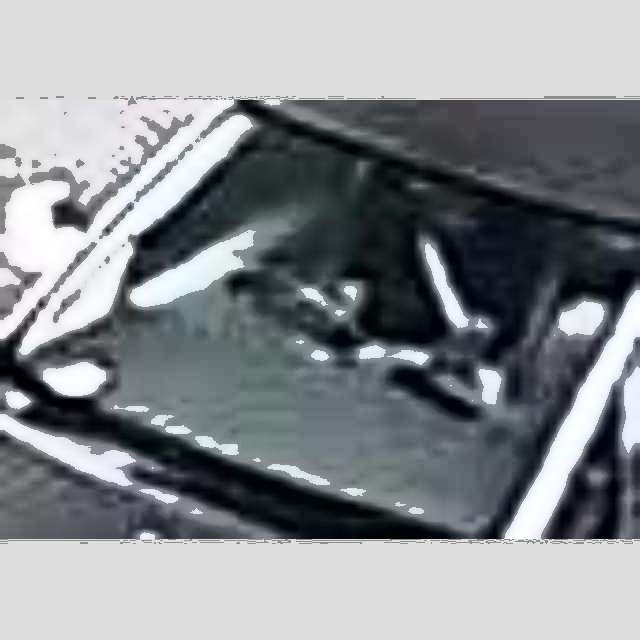pakai: (327, 182, 521, 398)
